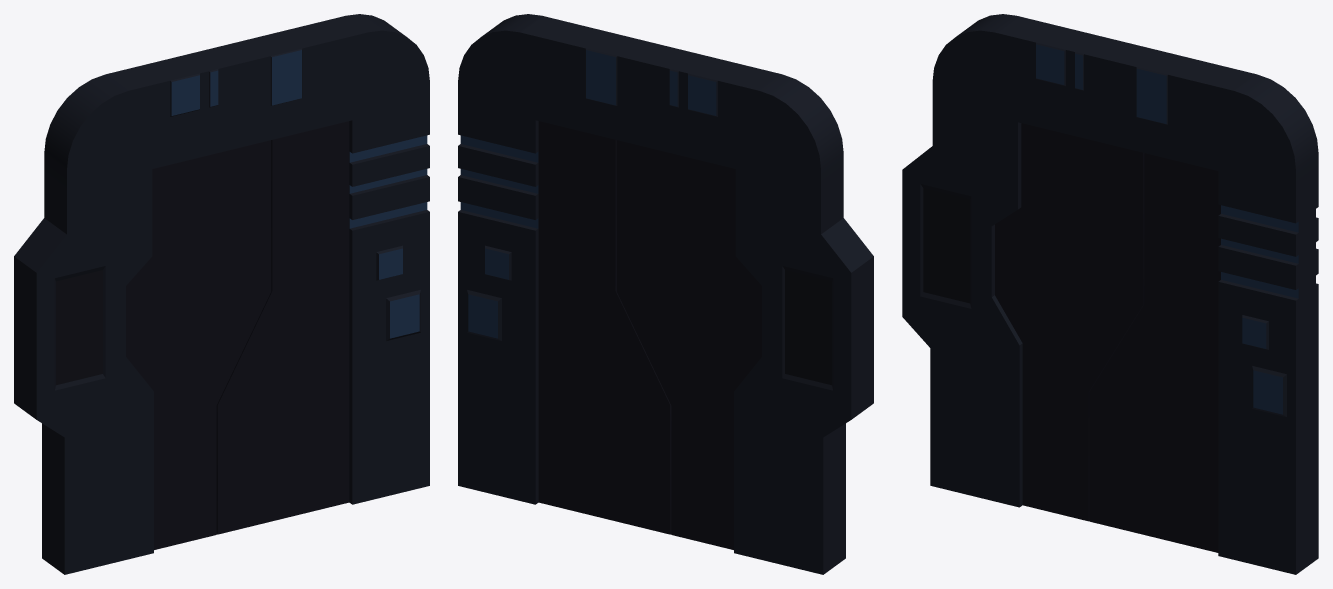
The model's file is door 1.fbx.
3 renders of one model, left to right at view 1: azimuth 30°, elevation 25°; view 2: azimuth 150°, elevation 25°; view 3: azimuth 330°, elevation 25°, orthographic.
Parts seen in each view (by area): view 1: group67_lever_low339_polySurface966, Object001, Object002; view 2: group67_lever_low339_polySurface966, Object001, Object002; view 3: group67_lever_low339_polySurface966, Object002, Object001.
Boxes of the visible parts, bbox=[...] form: group67_lever_low339_polySurface966: bbox=[14, 14, 429, 574]; Object001: bbox=[216, 121, 349, 534]; Object002: bbox=[126, 140, 271, 549]; group67_lever_low339_polySurface966: bbox=[458, 14, 873, 574]; Object001: bbox=[538, 121, 671, 534]; Object002: bbox=[616, 140, 761, 549]; group67_lever_low339_polySurface966: bbox=[902, 14, 1318, 574]; Object002: bbox=[995, 123, 1144, 521]; Object001: bbox=[1089, 153, 1220, 552].
Size of the model in its own units: 34.78 by 39.59 by 3.89.
